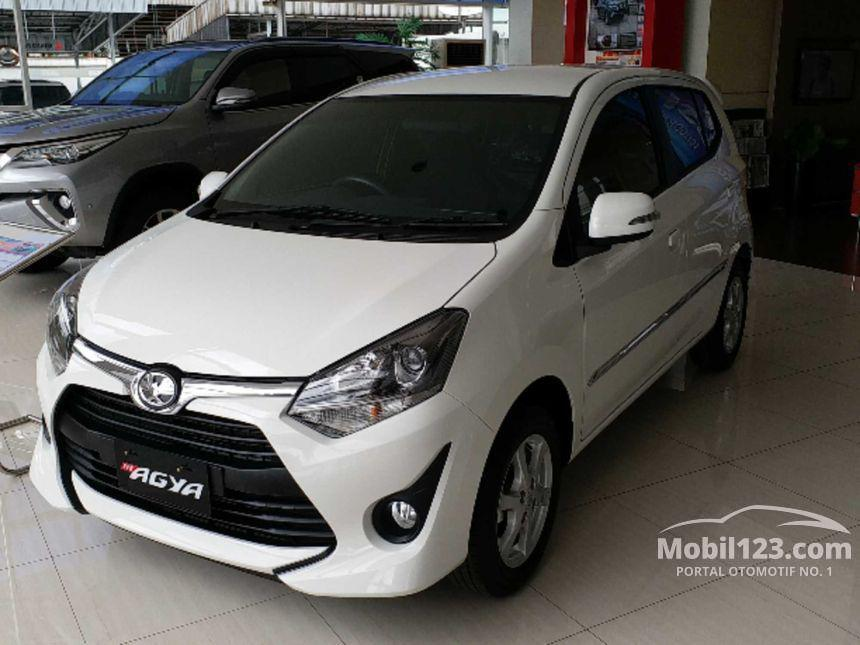mobil: (26, 31, 787, 602)
plat: (101, 444, 223, 521)
